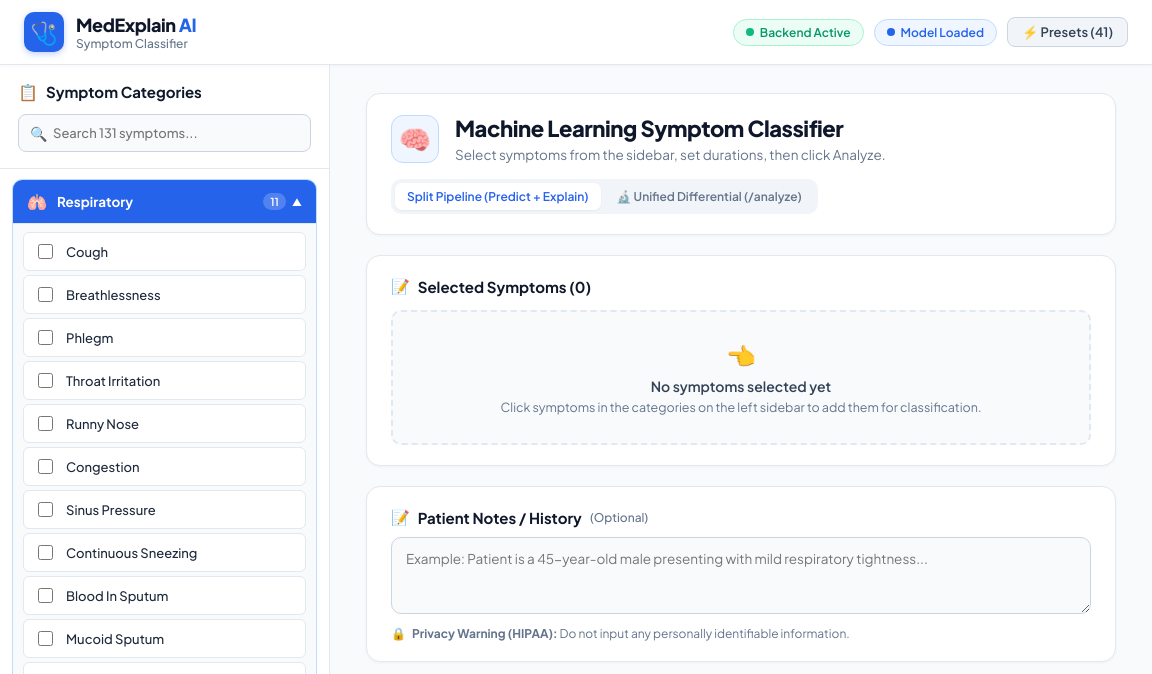
Test case: MedExplain Frontend Integration & Safety Tests › should render unified differential analysis when pipeline mode is set to unified
Switch to unified pipeline
Click the button "🔬 Unified Differential (/analyze)".
click(709, 196)  # box [604,183,814,210]
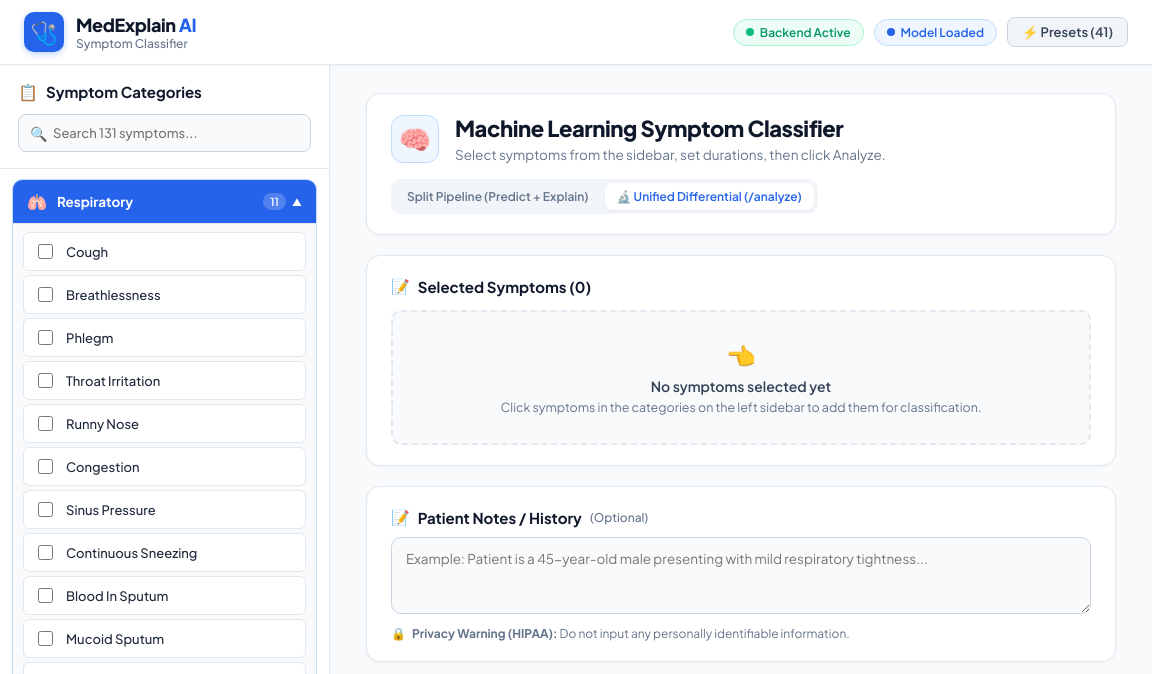
Click the text "Cough".
click(87, 252)  # box [66,244,108,260]
(page scrolled)
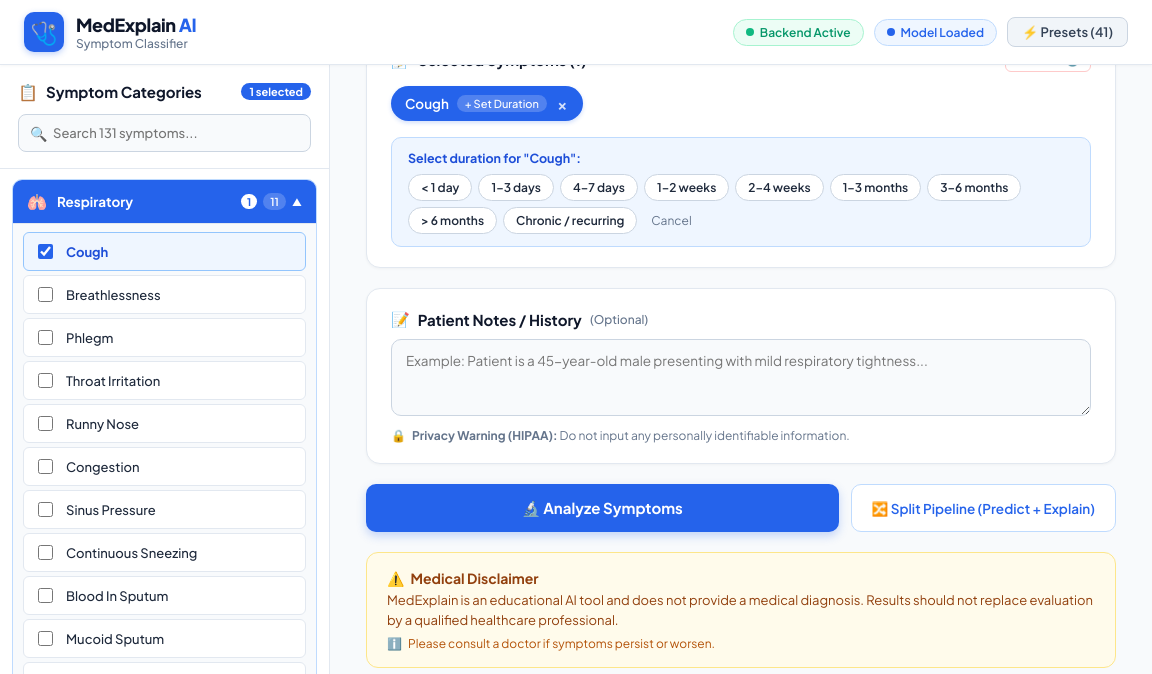
Click the button "🔬 Analyze Symptoms".
click(602, 508)  # box [366,484,839,532]
(page scrolled)
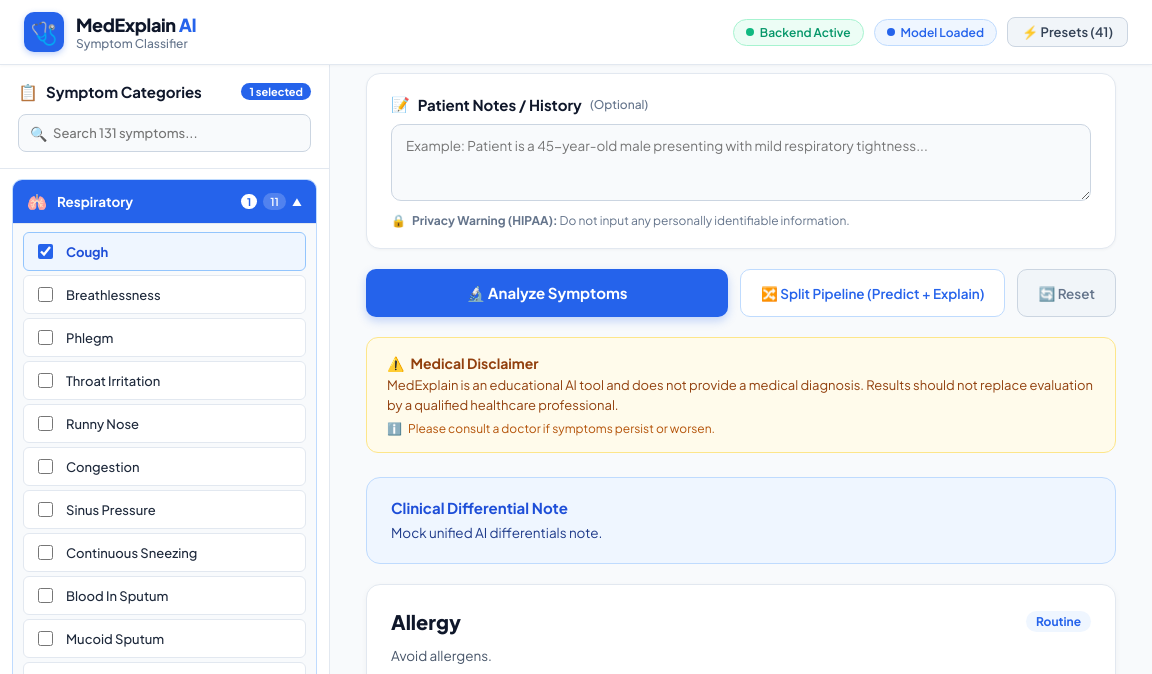
Check: the text "Mock unified AI differentials note." is shown, box [391,524,602,541]
Check: the heading "Allergy" is shown, box [391,609,461,634]
Check: the text "Routine" is shown, box [1026,611,1091,632]
